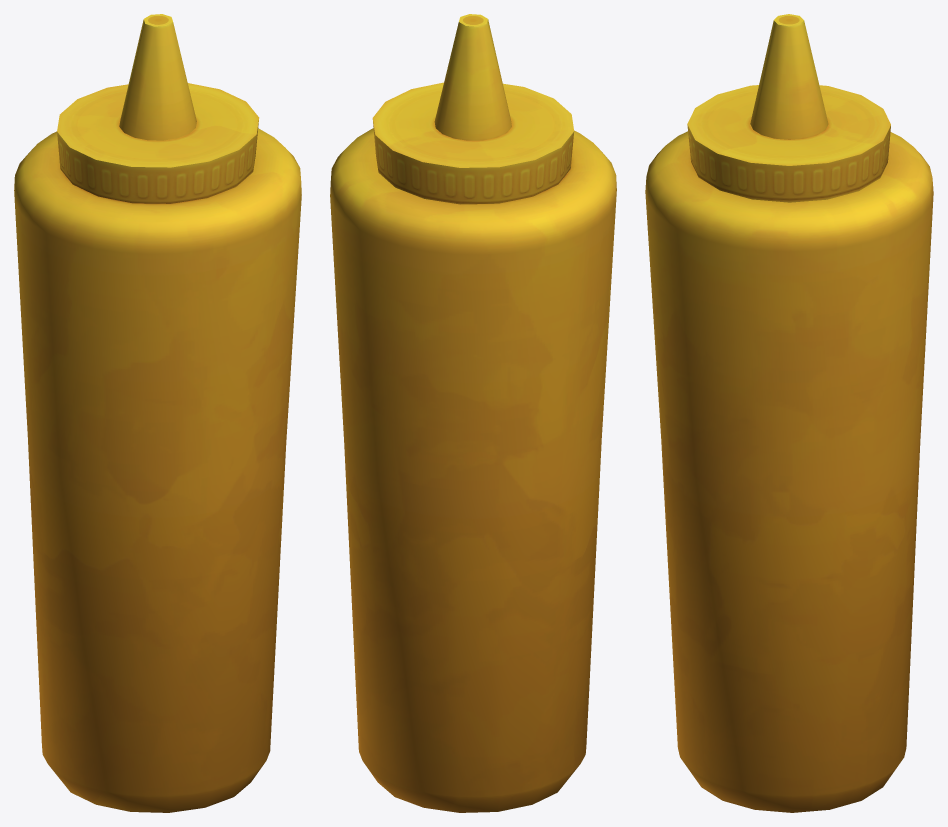
Rendered from SM_MustardSqueezeBottle.glb.
3 renders of one model, left to right at view 1: azimuth 30°, elevation 25°; view 2: azimuth 150°, elevation 25°; view 3: azimuth 270°, elevation 25°, orthographic.
Parts seen in each view (by area): view 1: SM_MustardSqueezeBottle; view 2: SM_MustardSqueezeBottle; view 3: SM_MustardSqueezeBottle.
Part boxes in pixels (left/top/right/bottom): SM_MustardSqueezeBottle: left=14, top=14, right=301, bottom=812; SM_MustardSqueezeBottle: left=330, top=14, right=616, bottom=812; SM_MustardSqueezeBottle: left=645, top=14, right=933, bottom=812.
Bounding box in the file's own units: 0.1152 × 0.3319 × 0.1153.
Materials: 1 (1 with a texture image).
